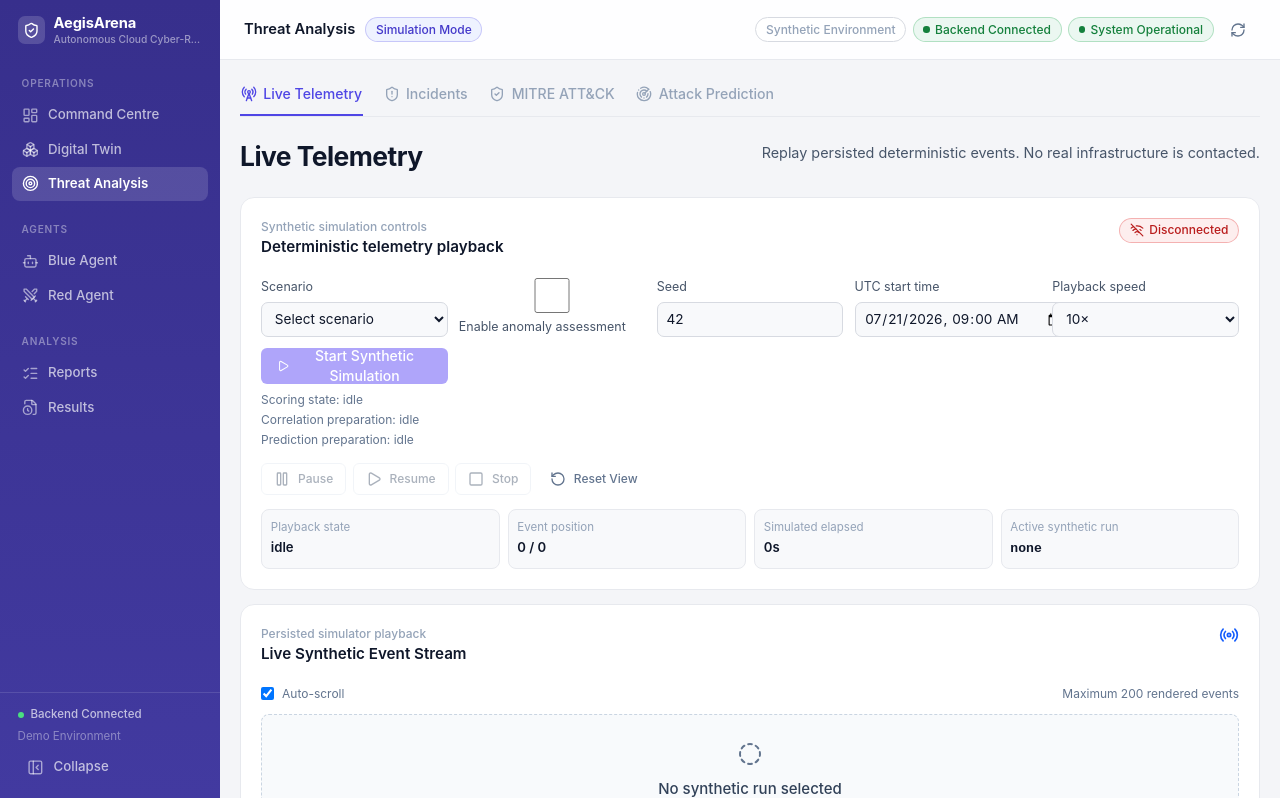
Test: synthetic correlation UI › defaults correlation off and only reveals it with detection
Expected: the checkbox labelled "Enable correlation" is not shown
Click the checkbox labelled "Enable anomaly assessment" at (552, 296), box [459,278,646,314]
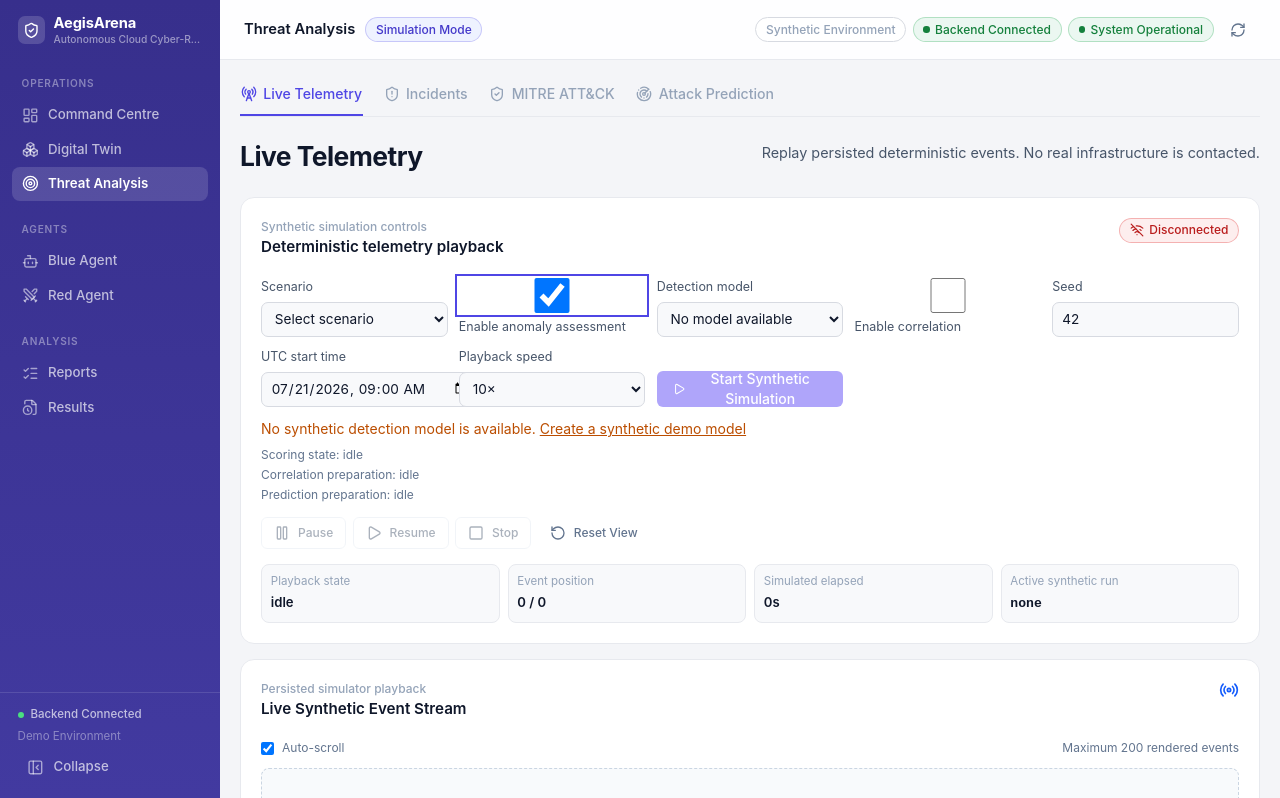
Expected: the checkbox labelled "Enable correlation" is not checked, [854,278,1041,314]
